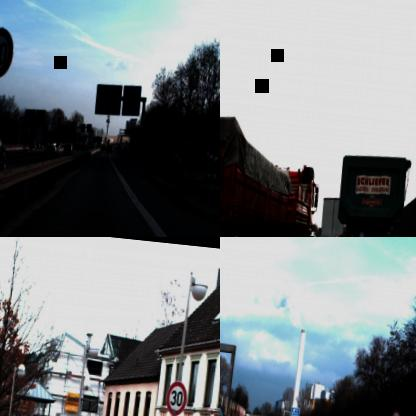no overtaking (trucks): (389, 409, 400, 416)
speed limit 30: (163, 379, 188, 416)
speed limit 80: (0, 25, 15, 79)
